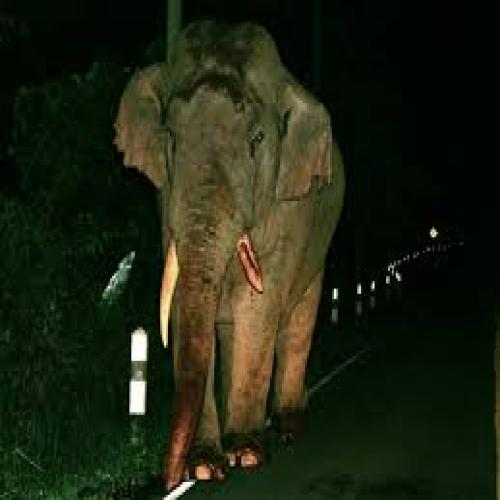asian_elephant-endangered: (116, 17, 344, 490)
